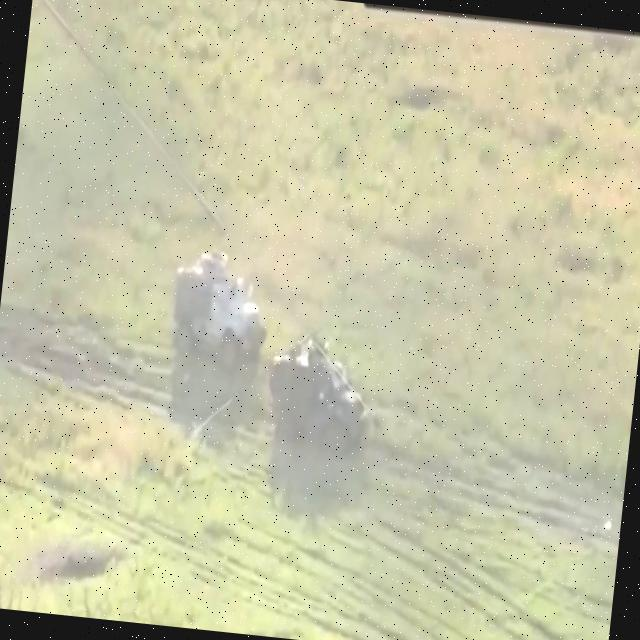Vehicle: (262, 328, 379, 463), (166, 244, 276, 367)
